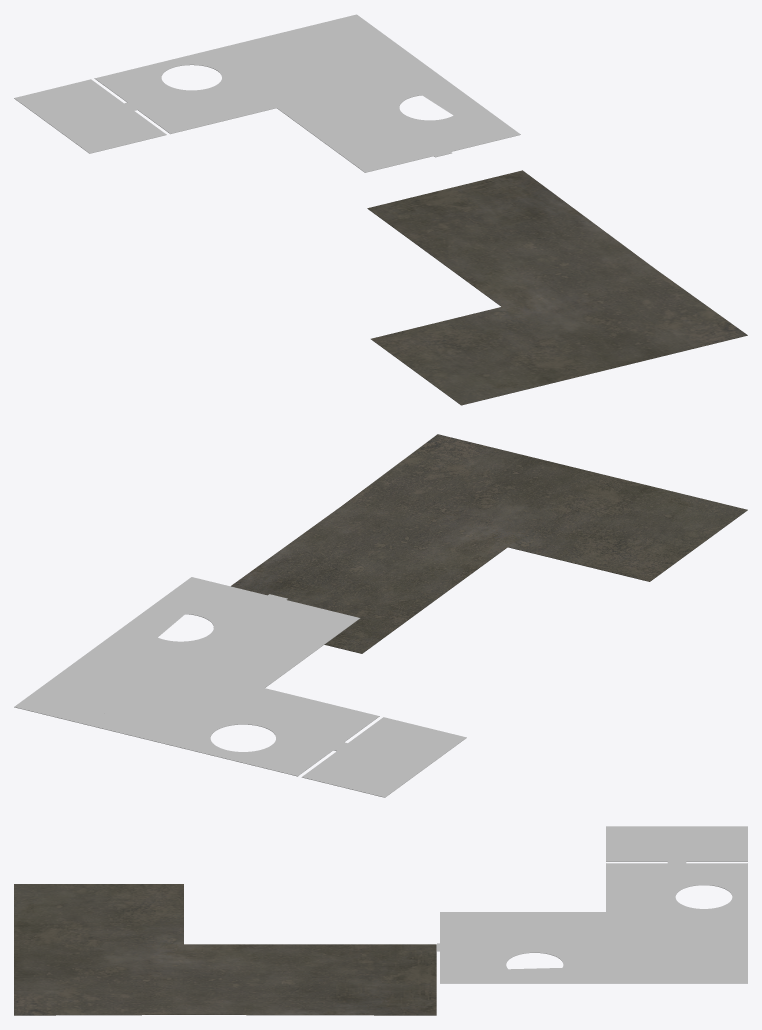
The model's file is Floor.fbx.
The picture shows the model from 3 angles, top to bottom: view 1: azimuth 30°, elevation 25°; view 2: azimuth 150°, elevation 25°; view 3: azimuth 270°, elevation 25°; orthographic projection. The views are drawn at different scales.
Parts seen in each view (by area): view 1: Floor; view 2: Floor; view 3: Floor.
Part boxes in pixels (<box>): Floor: <box>14,14,747,405</box>; Floor: <box>14,434,747,797</box>; Floor: <box>14,826,747,1015</box>.
Bounding box in the file's own units: 2090 × 202 × 4132.
